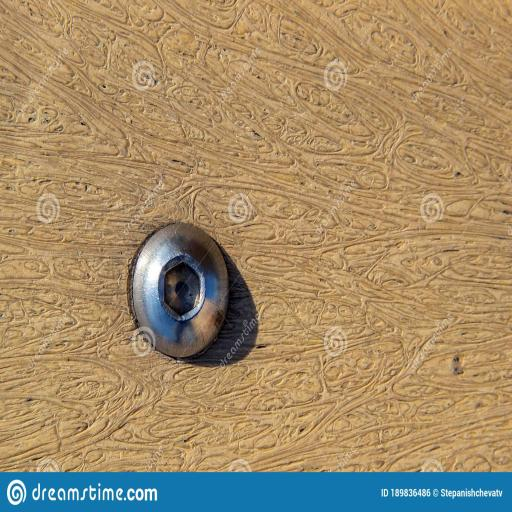Hex-Allen: (132, 220, 231, 362)
